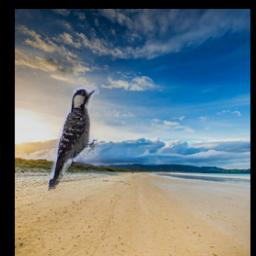Woodpecker: (44, 83, 100, 195)
